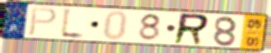0: (102, 10, 131, 42)
8: (212, 15, 238, 47), (137, 13, 162, 42)
L: (58, 6, 88, 42)
P: (27, 7, 59, 37)
R: (171, 12, 211, 46)
